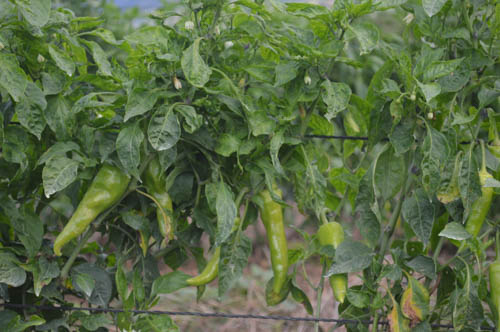ChiliPepper: (52, 161, 125, 263), (258, 180, 289, 300), (461, 172, 490, 254), (322, 220, 347, 306), (150, 162, 171, 243), (189, 250, 218, 292)
